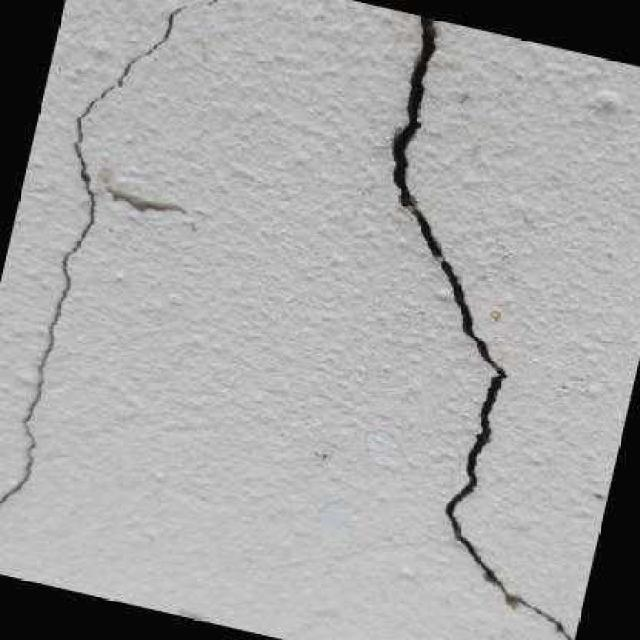D00: (387, 15, 575, 640), (0, 3, 189, 511)
